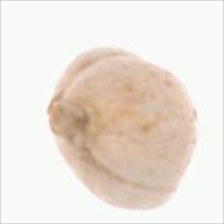L3: (44, 94, 100, 155)
L4: (45, 48, 198, 211)
